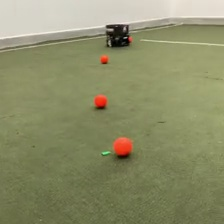ball: (112, 134, 133, 157), (93, 93, 107, 110), (99, 53, 110, 64), (128, 36, 135, 42)
robot: (104, 23, 130, 48)
